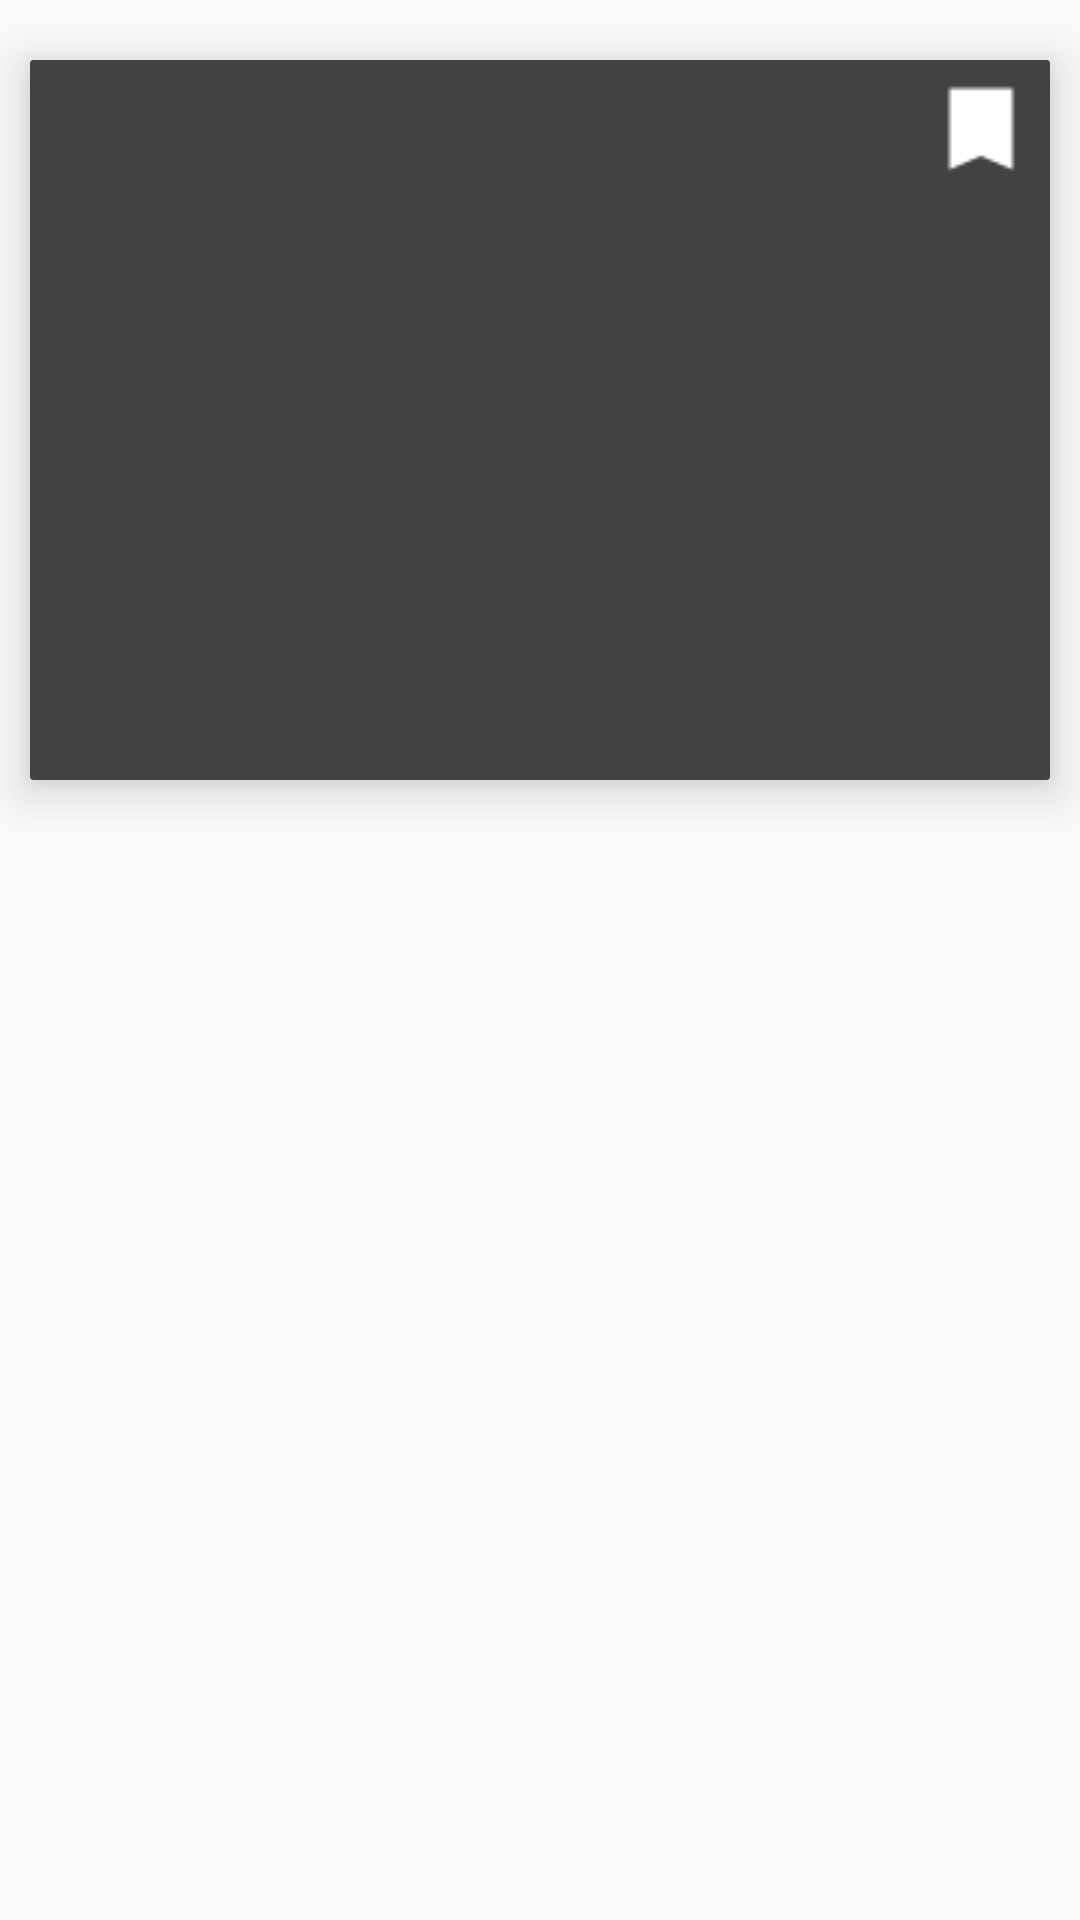

Point at icon controls on the screen. Image size 1080px×1920px, points as (x,y).
bookmark: (981,128)
